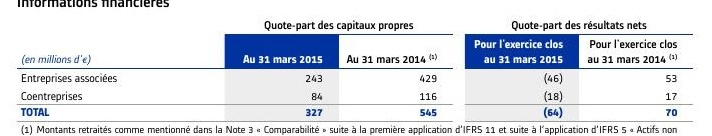table: (0, 0, 712, 136)
